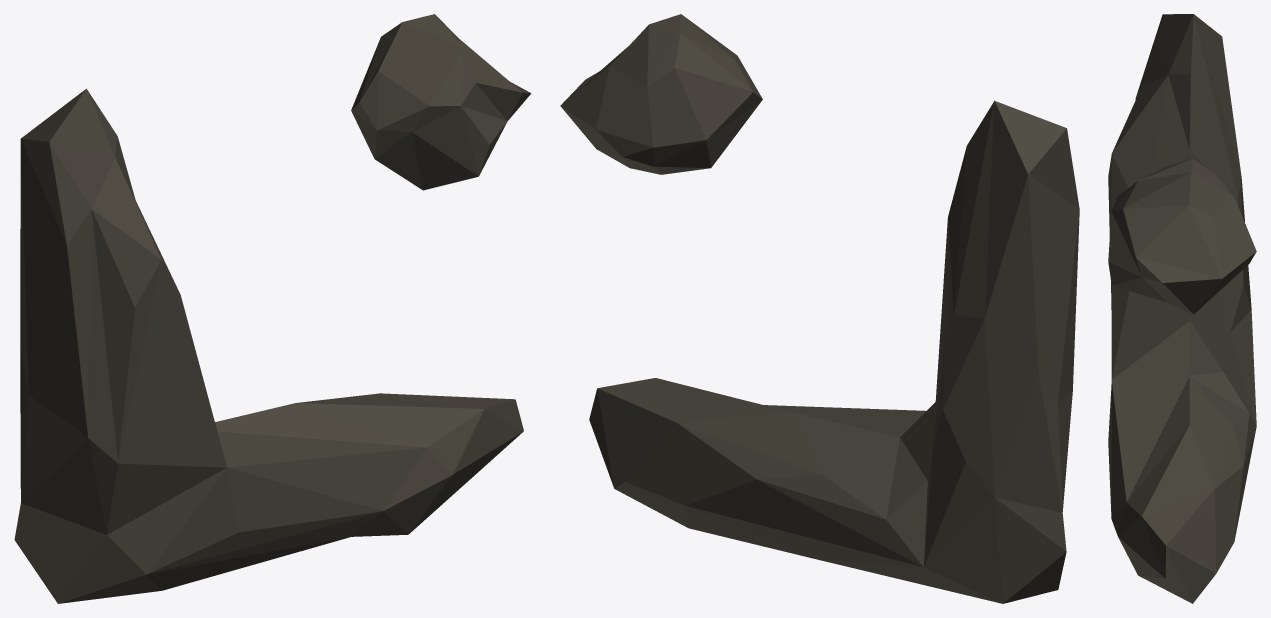
Rendered from Corner.FBX.
The picture shows the model from 3 angles, left to right: view 1: azimuth 30°, elevation 25°; view 2: azimuth 150°, elevation 25°; view 3: azimuth 270°, elevation 25°; orthographic projection. The views are drawn at different scales.
Parts seen in each view (by area): view 1: Corner; view 2: Corner; view 3: Corner.
Part boxes in pixels (left/top/right/bottom): Corner: left=14, top=14, right=531, bottom=603; Corner: left=560, top=14, right=1079, bottom=603; Corner: left=1108, top=14, right=1256, bottom=603.
Size of the model in its own units: 112 by 108 by 32.75.
